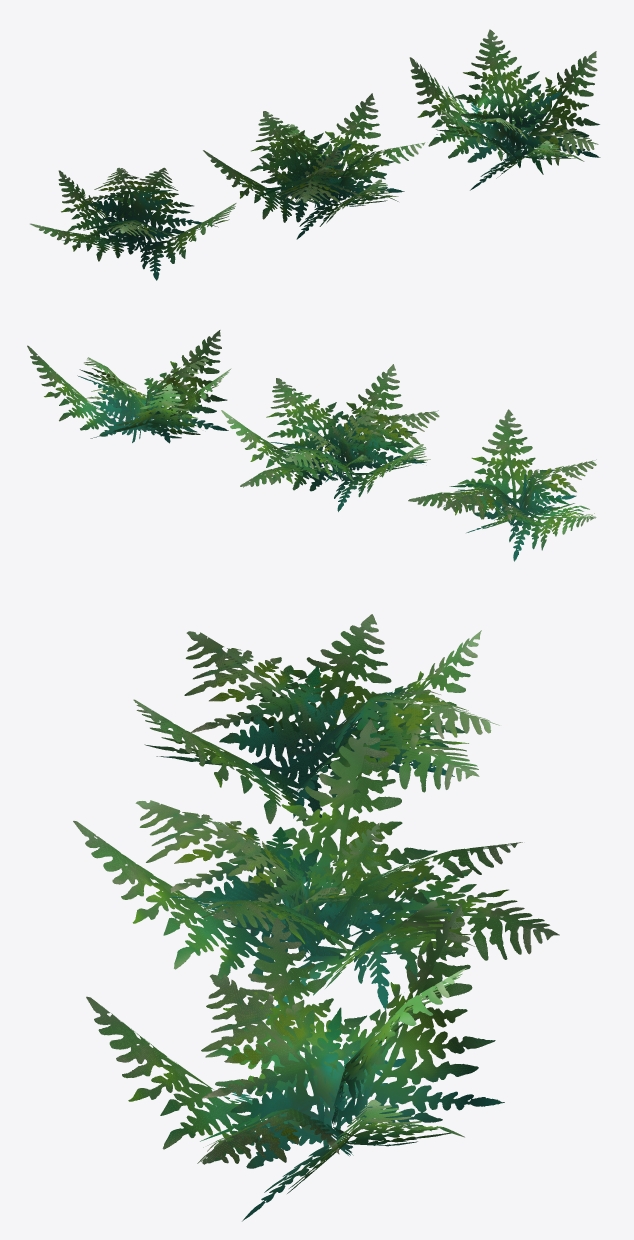
Rendered from fern.fbx.
The picture shows the model from 3 angles, top to bottom: view 1: azimuth 30°, elevation 25°; view 2: azimuth 150°, elevation 25°; view 3: azimuth 270°, elevation 25°; orthographic projection. The views are drawn at different scales.
Parts seen in each view (by area): view 1: Var_2_Fern, Var_1_Fern, Var_3_Fern; view 2: Var_1_Fern, Var_2_Fern, Var_3_Fern; view 3: Var_1_Fern, Var_2_Fern, Var_3_Fern.
Part boxes in pixels (bbox=[...]): Var_2_Fern: bbox=[409, 29, 600, 190]; Var_1_Fern: bbox=[203, 93, 425, 239]; Var_3_Fern: bbox=[30, 167, 236, 280]; Var_1_Fern: bbox=[221, 364, 439, 511]; Var_2_Fern: bbox=[27, 330, 231, 443]; Var_3_Fern: bbox=[408, 409, 596, 561]; Var_1_Fern: bbox=[73, 719, 559, 1019]; Var_2_Fern: bbox=[86, 903, 504, 1221]; Var_3_Fern: bbox=[133, 614, 499, 823].
Bounding box in the file's own units: 820 × 167 × 327.
